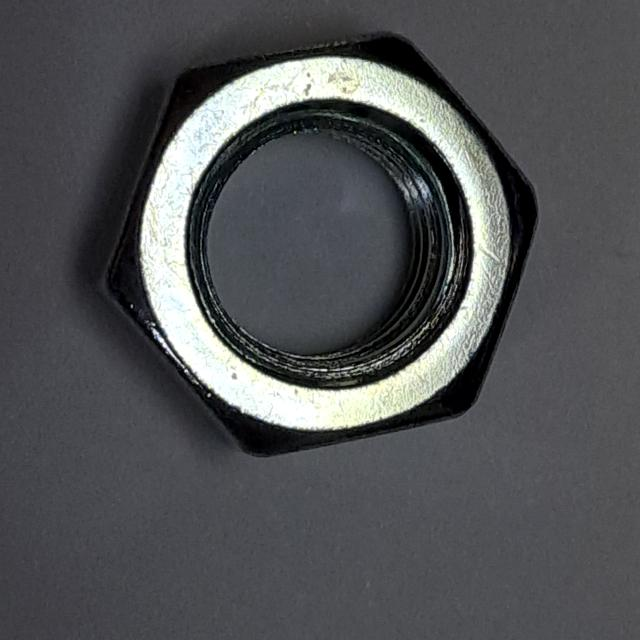Excellent: (78, 23, 553, 482)
